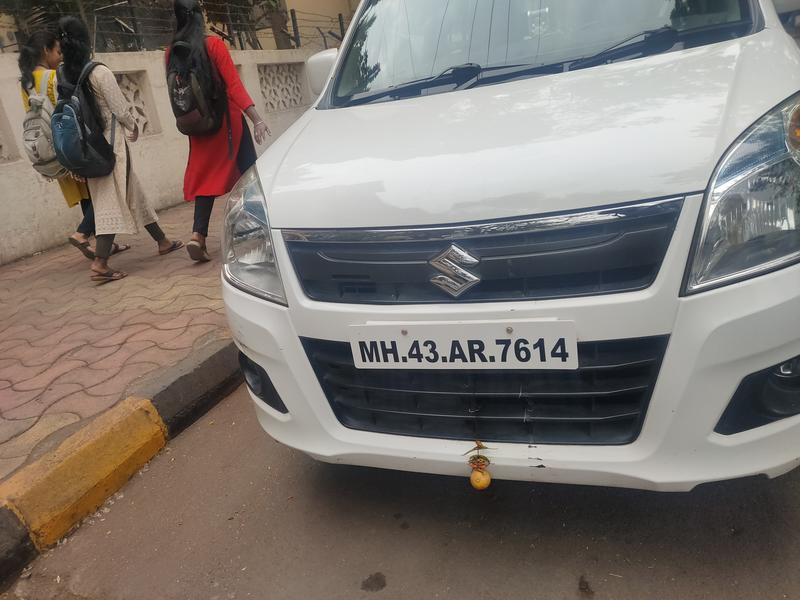license_plate: (341, 311, 587, 376)
